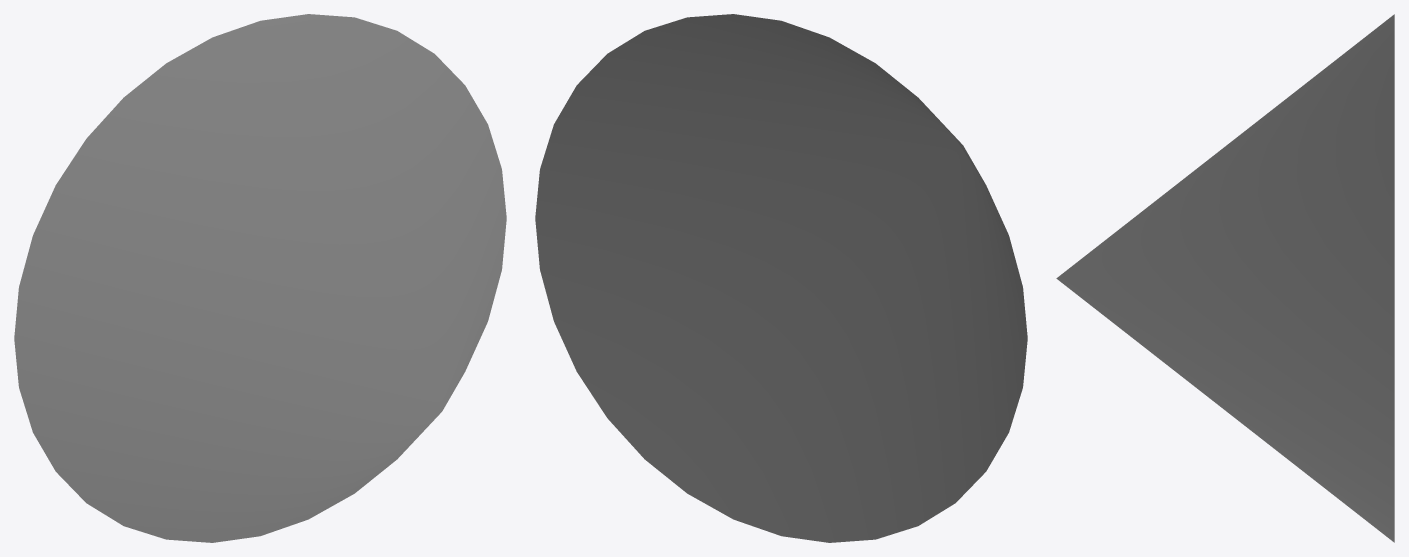
File: yokokui1.fbx
3 renders of one model, left to right at view 1: azimuth 30°, elevation 25°; view 2: azimuth 150°, elevation 25°; view 3: azimuth 270°, elevation 25°, orthographic. The views are drawn at different scales.
Parts seen in each view (by area): view 1: yokokui0_05; view 2: yokokui0_05; view 3: yokokui0_05.
Part boxes in pixels (box(x1,y1,x2,y2)): yokokui0_05: box(14, 14, 506, 542); yokokui0_05: box(535, 14, 1027, 542); yokokui0_05: box(1056, 14, 1394, 542).
Bounding box in the file's own units: 7.03 × 7.03 × 4.49.
